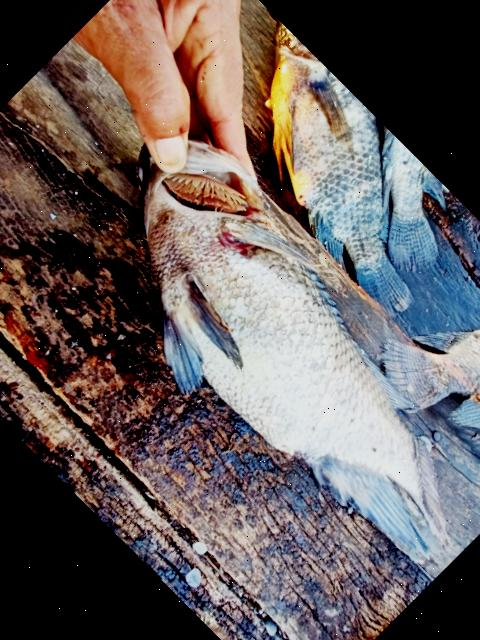Flavobacterium -Bacterial Gill Disease-: (137, 141, 480, 564), (137, 139, 447, 557), (138, 141, 448, 556)
